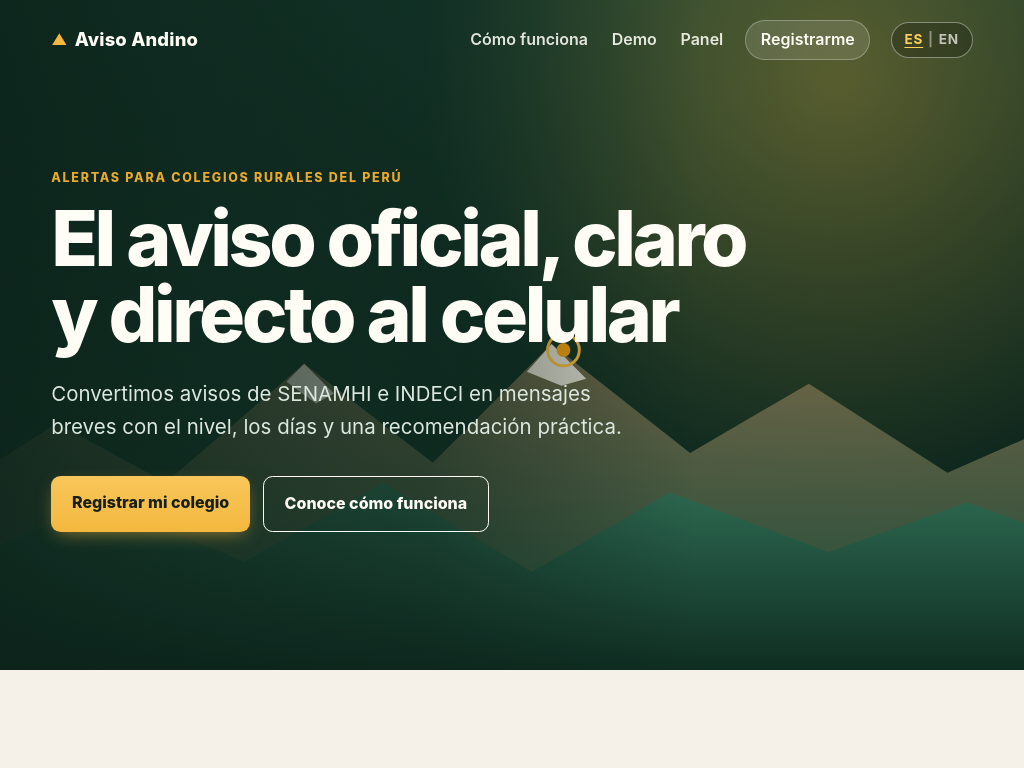
Scenario: toggle ES | EN › cambia el texto, <html lang> y lo persiste
Expected: the heading reads "El aviso oficial, claro y directo al celular", [51,192,745,362]
Click the button with aria-label "Cambiar idioma: ver la página en inglés".
click(932, 40)  # box [891,22,973,58]
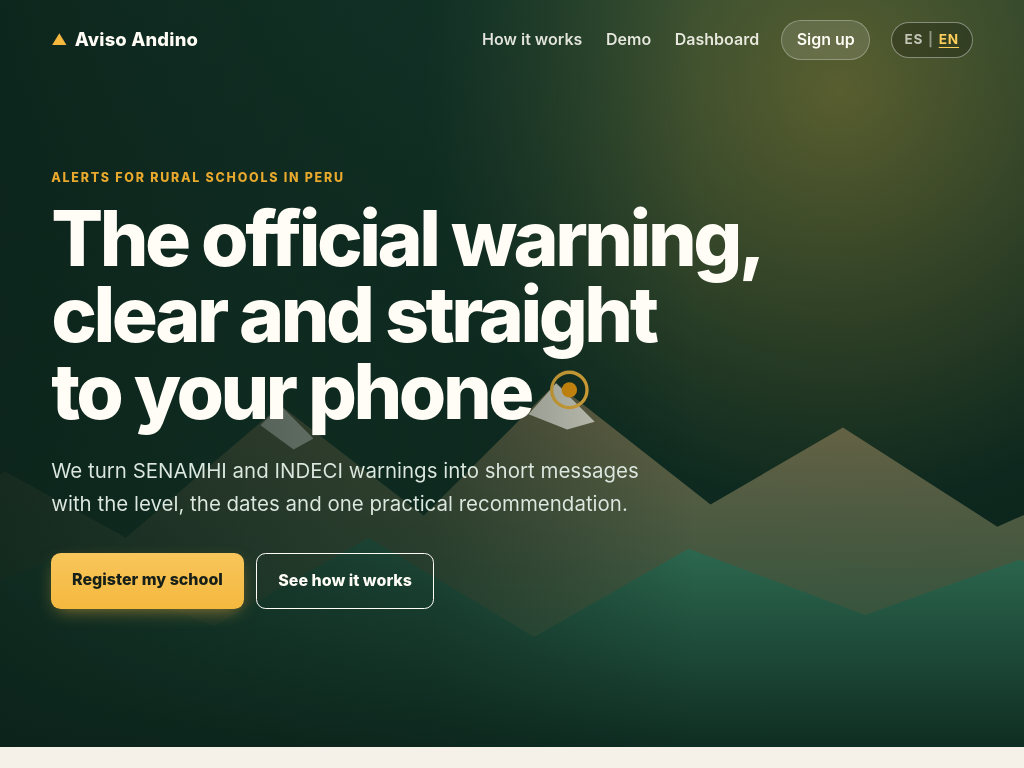
Now the heading reads "The official warning, clear and straight to your phone", box [51,192,759,438]
Now the button with aria-label "Change language: view the page in Spanish" is shown, box [891,22,973,58]
